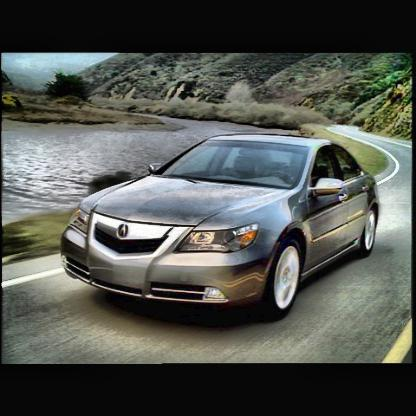Acura RL Sedan 2012: (60, 133, 382, 327)
